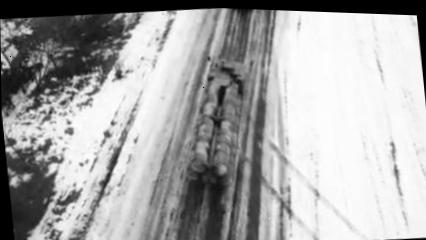rszo: (171, 52, 262, 193)
